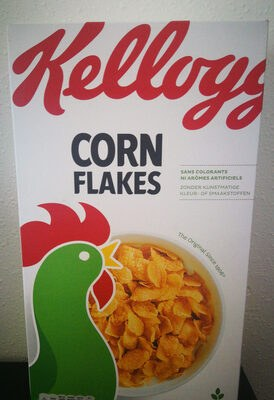CORN FLAKES: (14, 20, 260, 380)
